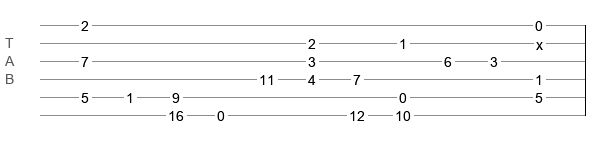0: (217, 108, 225, 118), (399, 90, 407, 100), (535, 18, 543, 28)
1: (126, 90, 134, 100), (399, 36, 407, 46), (535, 72, 543, 82)
10: (395, 108, 411, 118)
11: (259, 72, 275, 82)
12: (349, 108, 365, 118)
16: (168, 108, 184, 118)
2: (81, 18, 89, 28), (308, 36, 316, 46)
3: (308, 54, 316, 64), (490, 54, 498, 64)
4: (308, 72, 316, 82)
5: (81, 90, 89, 100), (535, 90, 543, 100)
6: (444, 54, 452, 64)
7: (81, 54, 89, 64), (353, 72, 361, 82)
9: (172, 90, 180, 100)
x: (536, 37, 543, 45)
